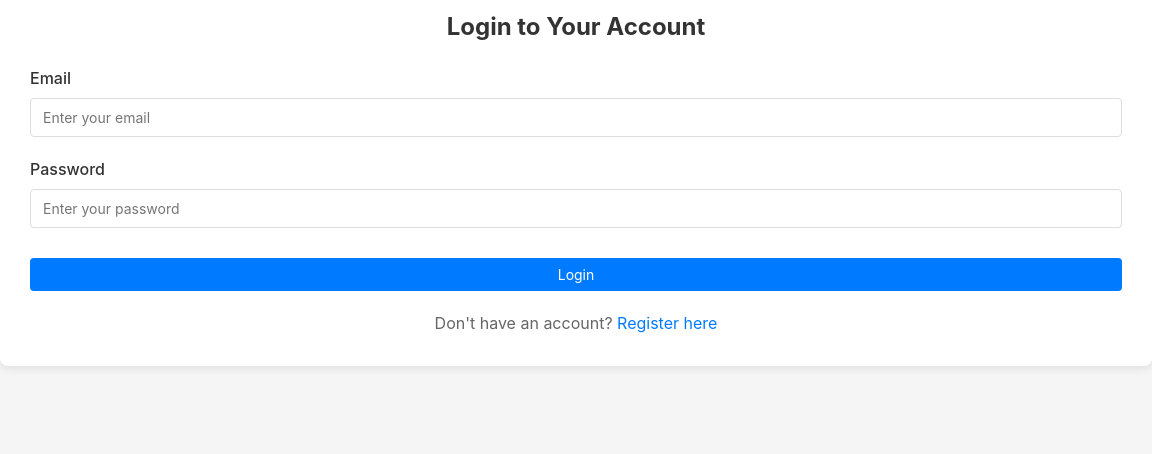
LoginForm › shows an API error for invalid credentials
Type "wrong@example.com" into the field labelled "Email".
click(576, 118); type("wrong@example.com")  # box x1=30 y1=98 x2=1122 y2=137
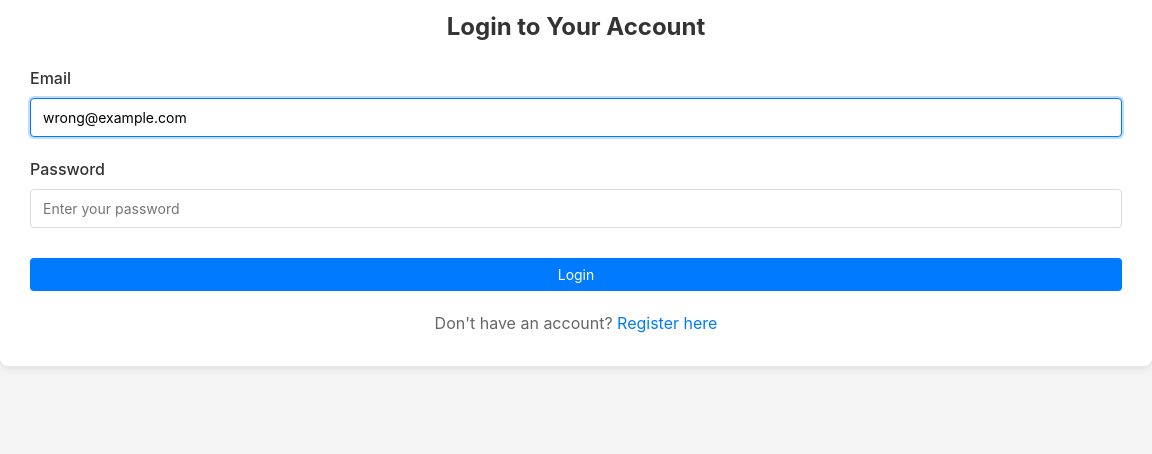
Type "wrong-password" into the password field labelled "Password".
click(576, 208); type("wrong-password")  # box x1=30 y1=189 x2=1122 y2=228
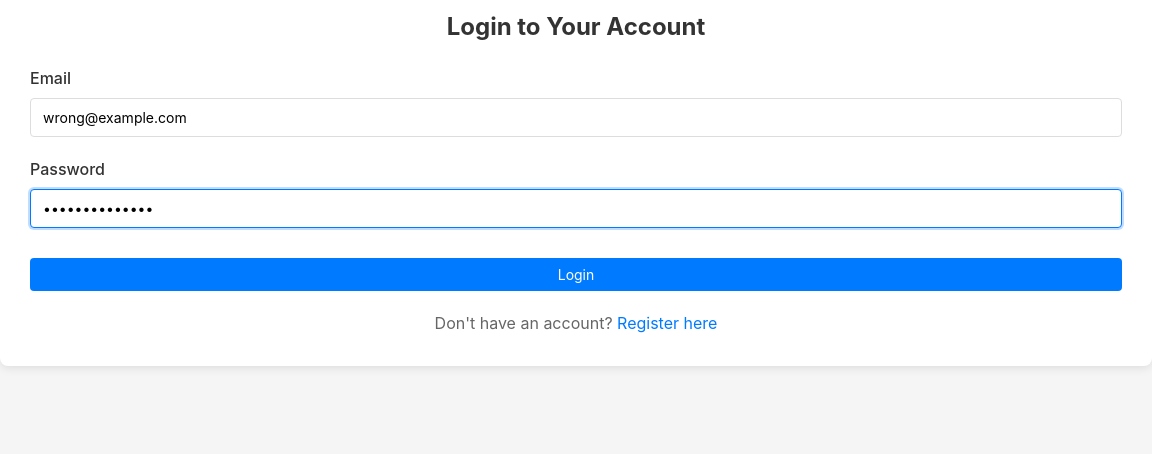
Click the button "Login".
click(576, 274)  # box x1=30 y1=258 x2=1122 y2=291
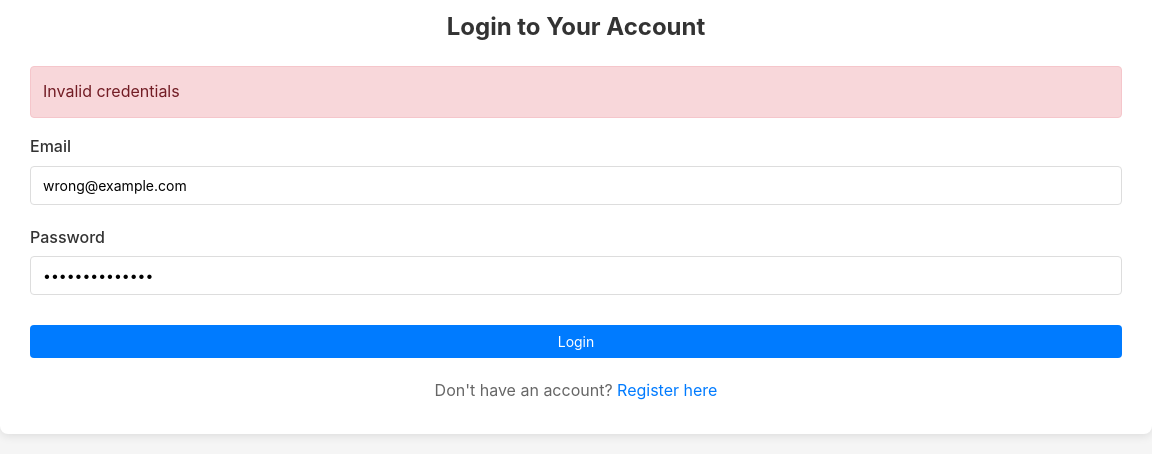
Check: the message "Invalid credentials" is shown, box x1=30 y1=66 x2=1122 y2=118
Check: the message reads "Invalid credentials", box x1=43 y1=81 x2=180 y2=101
